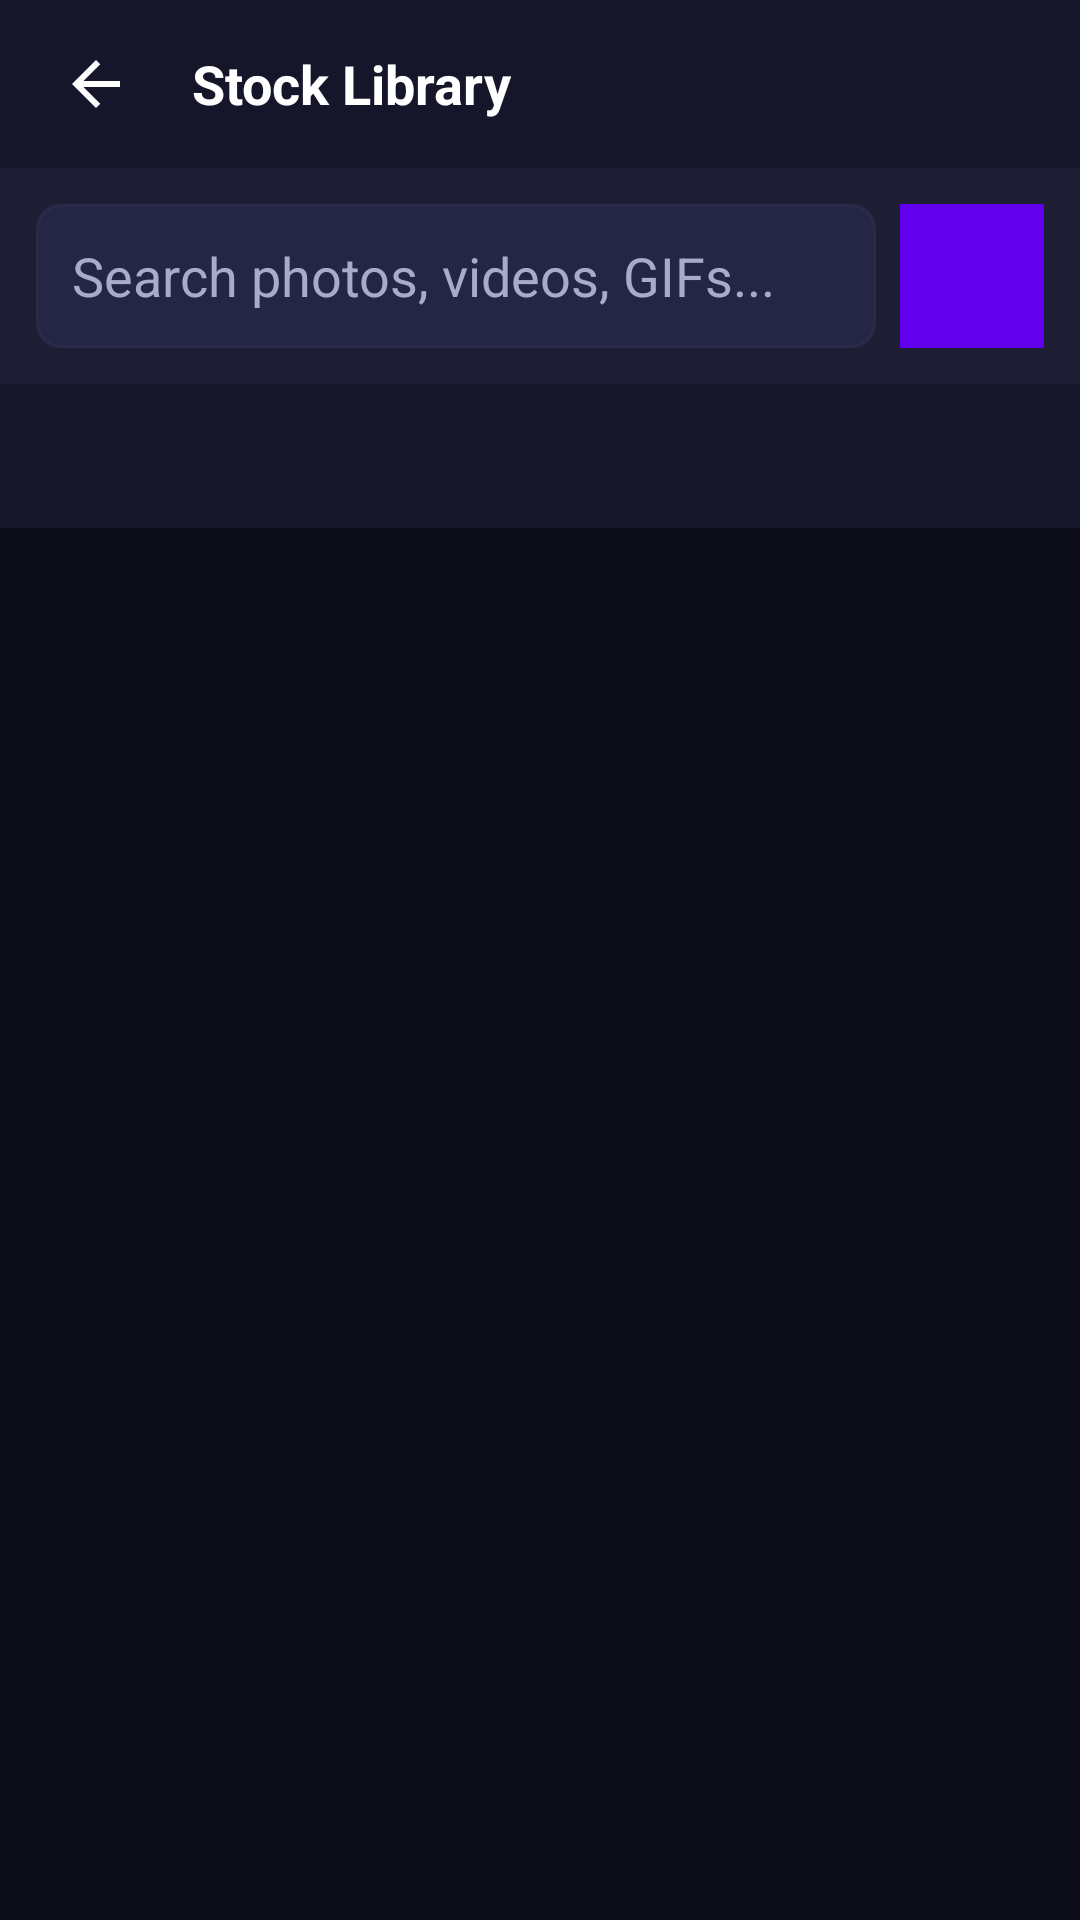

Named icons in this screenshot (1080w x 1920h) and their bounding boxes, bbox=(x1, y1, x2, y2):
arrow back: bbox=(72, 60, 120, 108)
